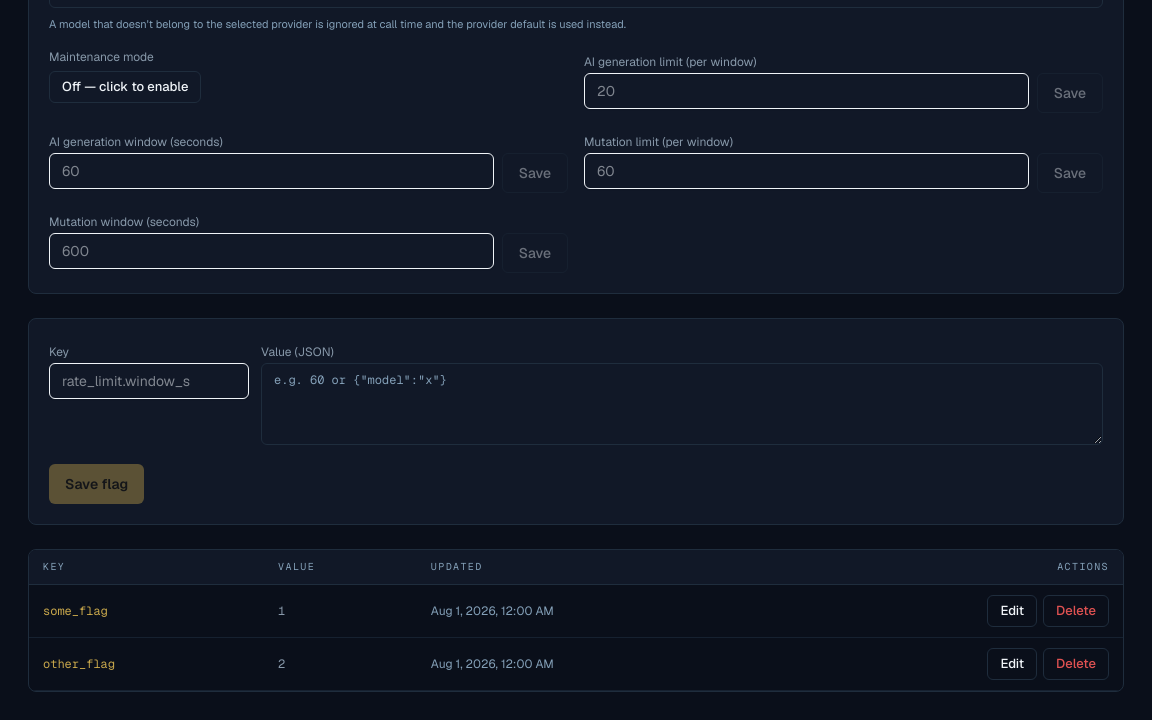
Test: FlagsPage — operational settings › asks before an Edit overwrites a draft, and Clear empties it
(page scrolled)
Click the button "Edit" in the row of "some_flag".
click(1012, 611)  # box [988,595,1037,627]
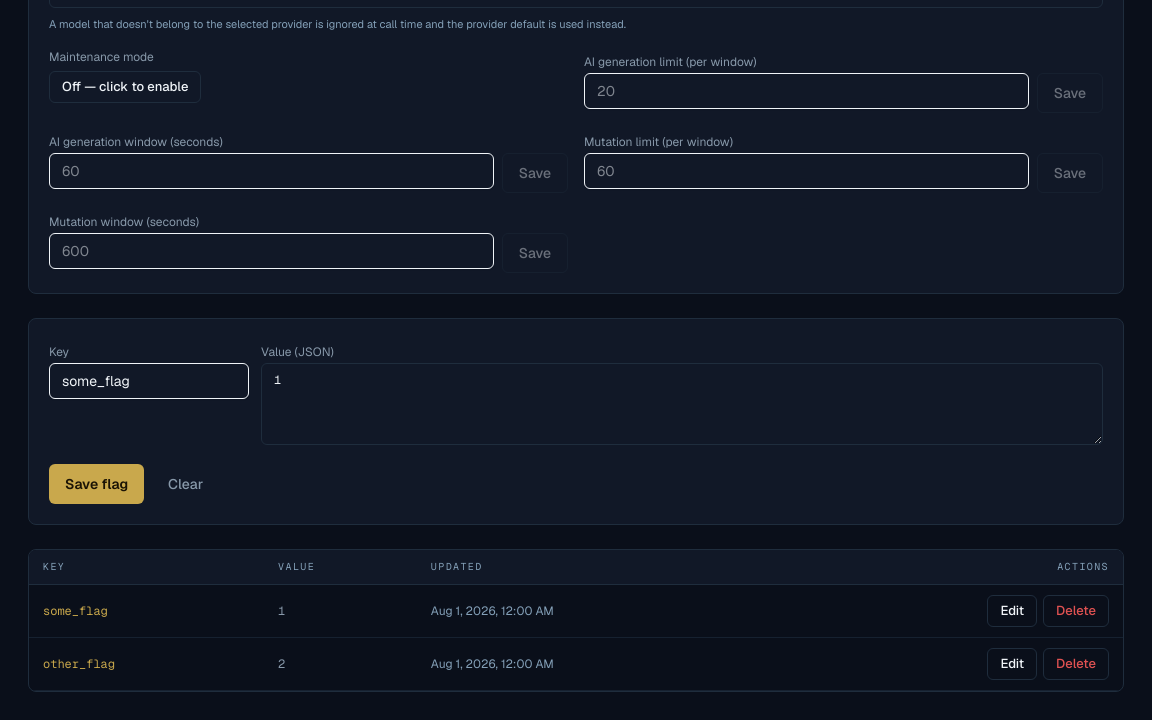
Now the field with placeholder "rate_limit.window_s" is not empty, box [49,362,249,398]
Click the button "Edit" in the row of "other_flag".
click(1012, 664)  # box [988,648,1037,680]
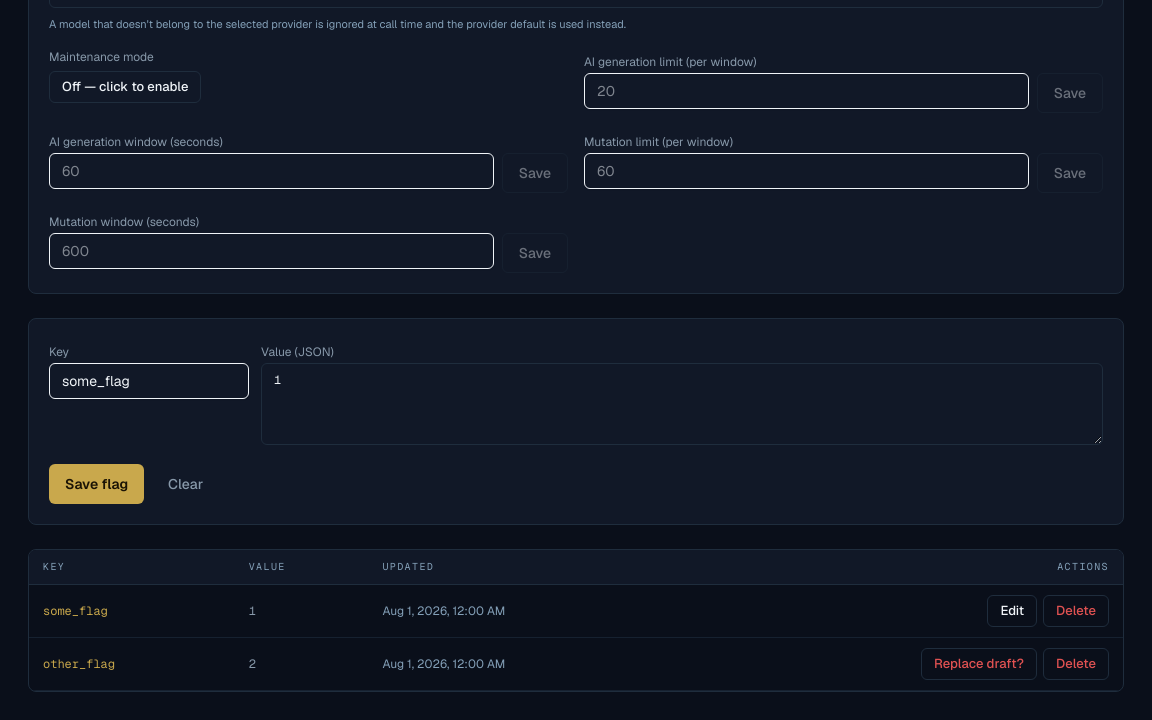
Click the button "Replace draft?".
click(979, 664)  # box [921,648,1037,680]
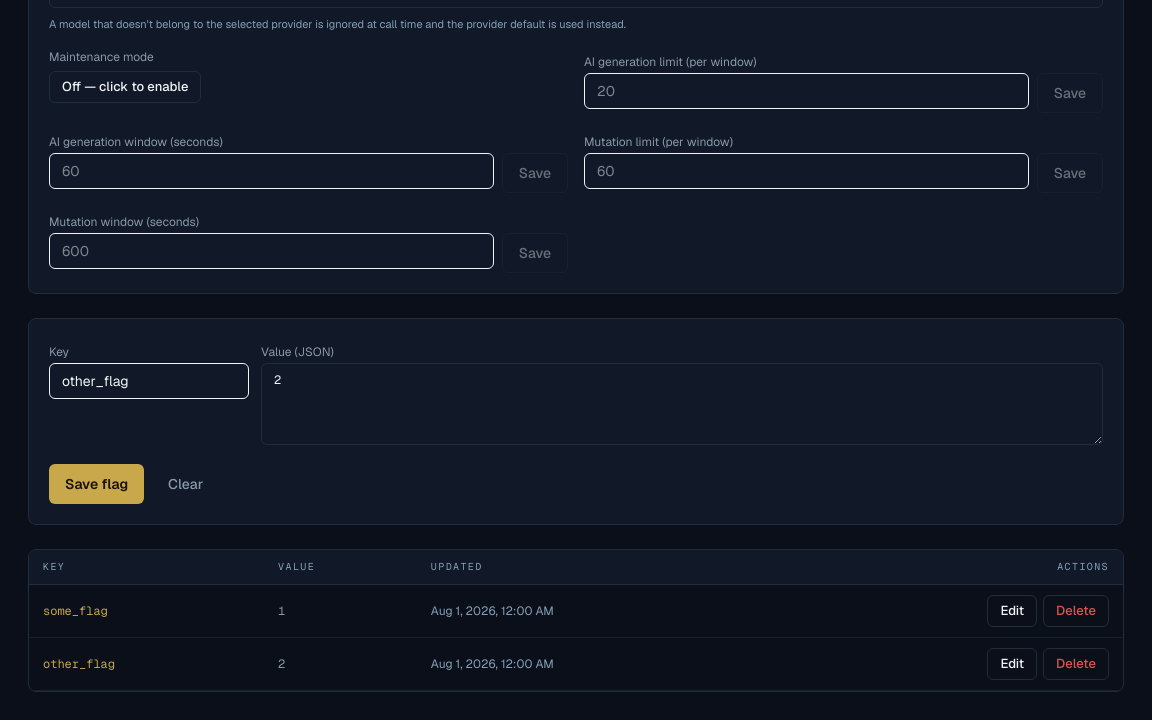
Now the field with placeholder "rate_limit.window_s" does not hold "some_flag", box [49,362,249,398]
Click the button "Clear".
click(186, 484)  # box [152,464,219,504]
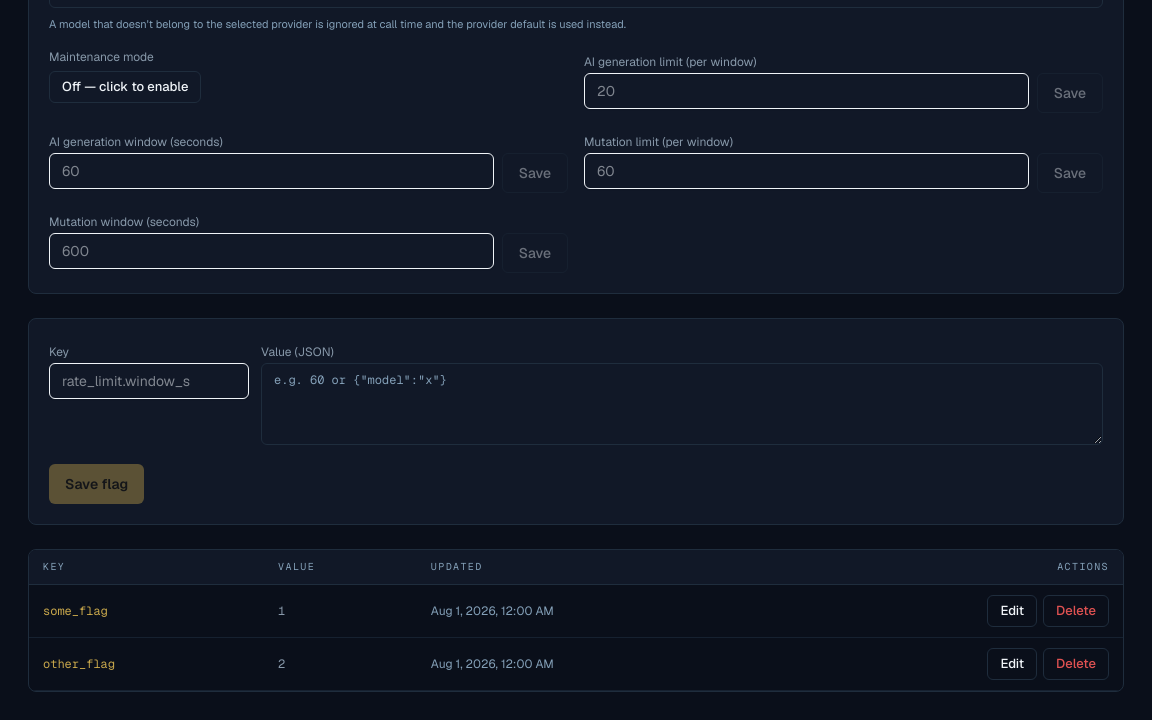
Now the field with placeholder "rate_limit.window_s" is empty, box [49,362,249,398]
